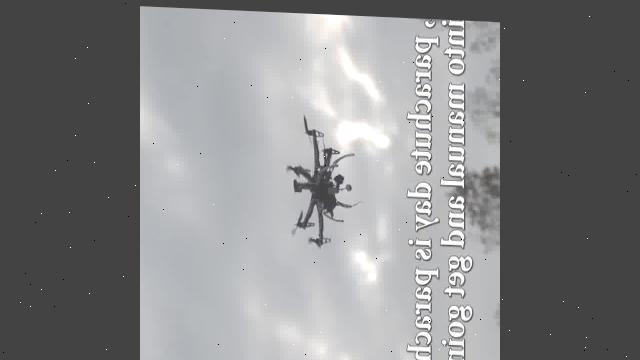drone: (376, 13, 499, 360)
